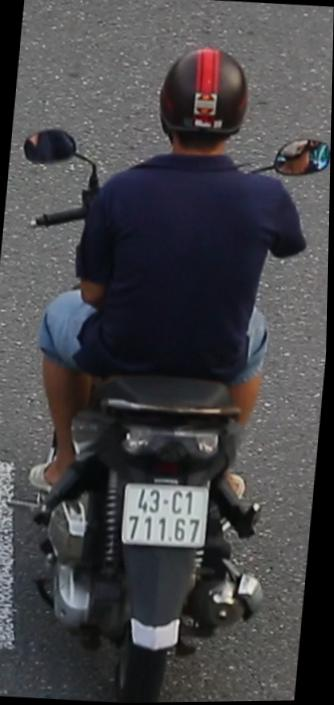LP: (118, 474, 216, 567)
helmet: (148, 34, 262, 158)
